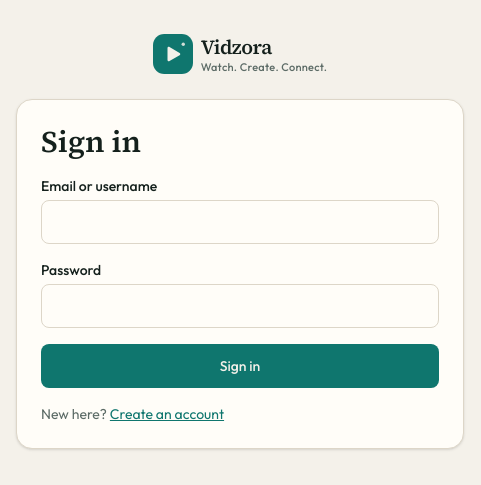
it: login › shows a normalized error on invalid credentials
Step 1. Type "ada" into the field labelled "Email or username" → (240, 222), box [41, 200, 439, 244]
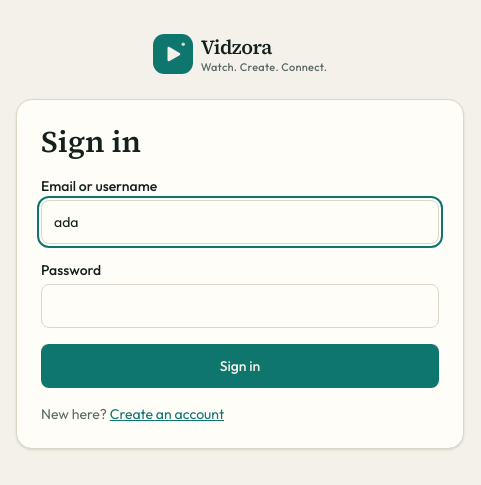
Step 2. Type "password1" into the password field labelled "Password" → (240, 306), box [41, 284, 439, 328]
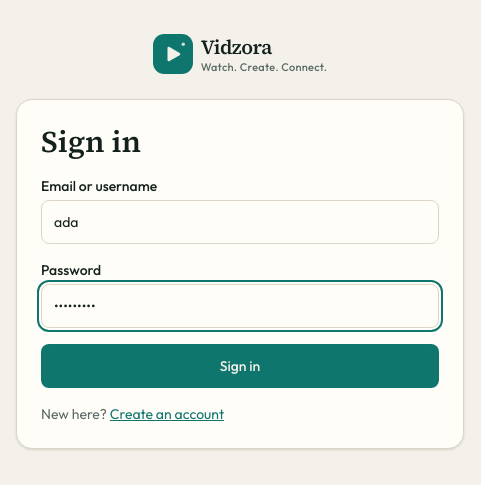
Step 3. Click the button "Sign in" → click(240, 366), box [41, 344, 439, 388]
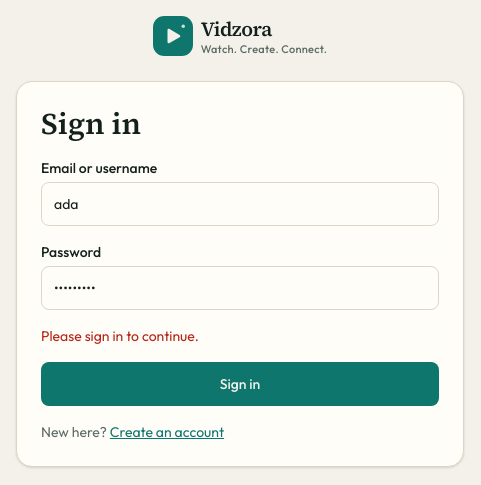
Expected: the message shows "sign in", [41, 327, 199, 345]
